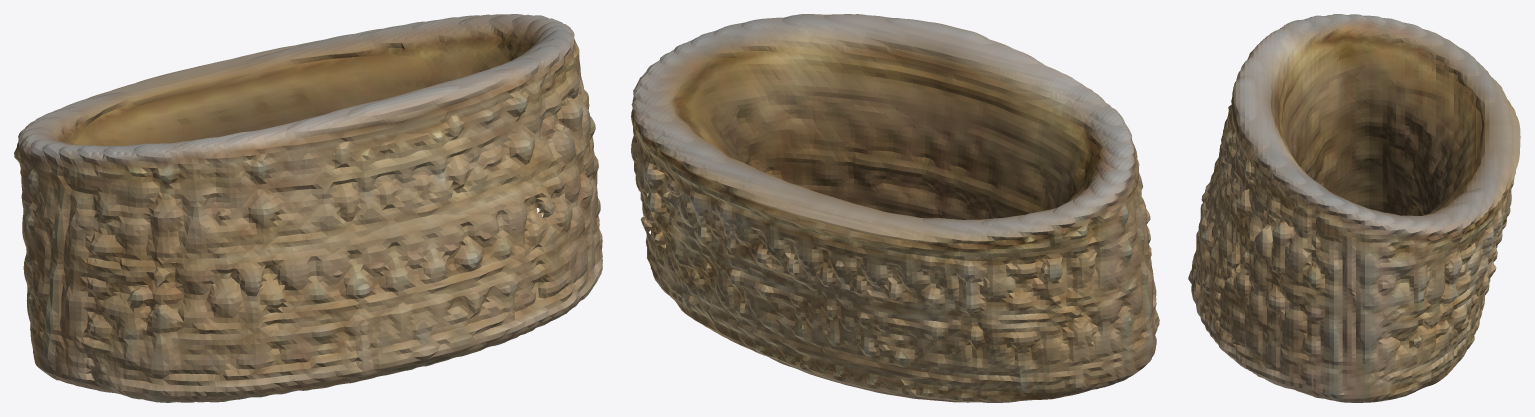
3 renders of one model, left to right at view 1: azimuth 30°, elevation 25°; view 2: azimuth 150°, elevation 25°; view 3: azimuth 270°, elevation 25°, orthographic. The views are drawn at different scales.
Visible parts, largest first — view 1: world; view 2: world; view 3: world.
Part boxes in pixels (bbox=[...]): world: bbox=[14, 14, 602, 402]; world: bbox=[631, 14, 1159, 402]; world: bbox=[1188, 14, 1520, 402].
Size of the model in its own units: 0.7961 by 0.4044 by 0.5095.
